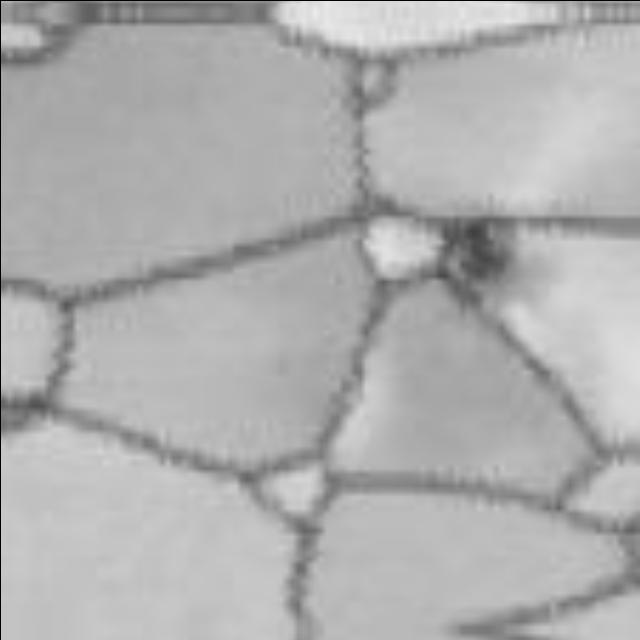good_void: (432, 208, 537, 322)
